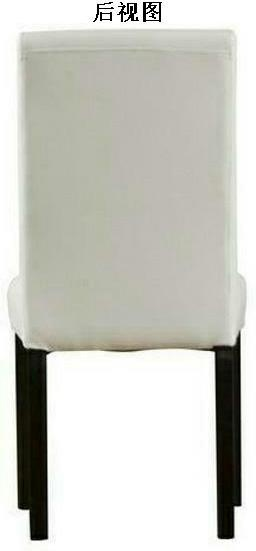obstacle: (9, 29, 244, 539)
